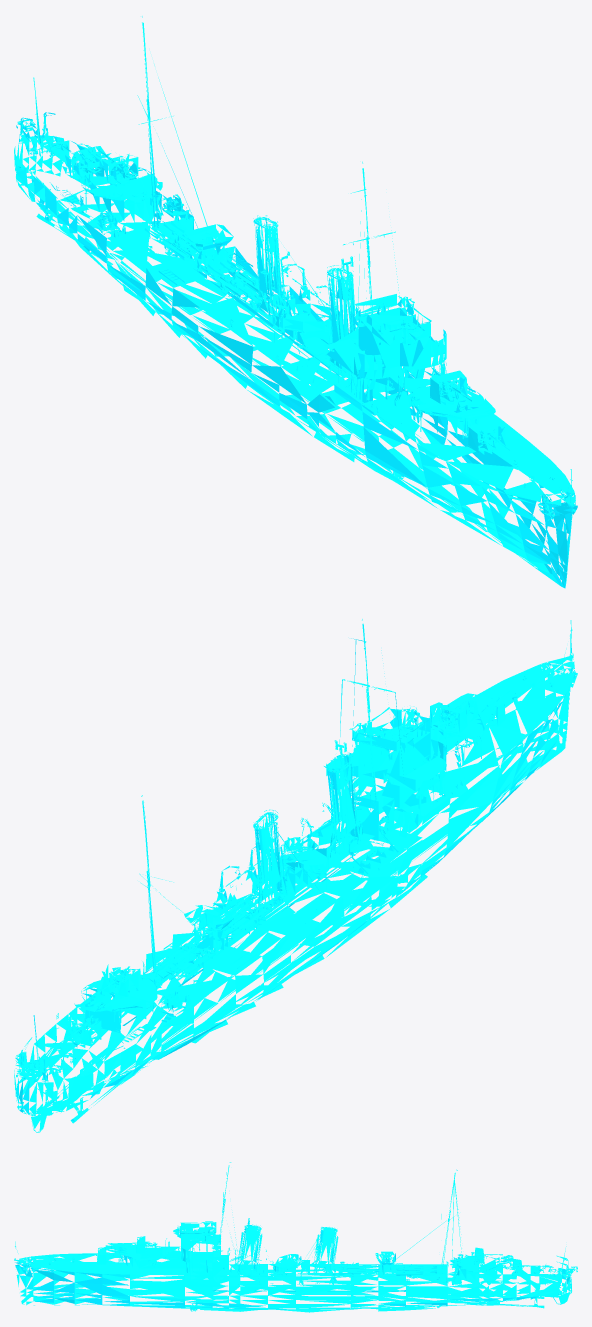
File: PBSD605.glb
3 renders of one model, top to bottom at view 1: azimuth 30°, elevation 25°; view 2: azimuth 150°, elevation 25°; view 3: azimuth 270°, elevation 25°, orthographic. The views are drawn at different scales.
Parts seen in each view (by area): view 1: hull, turret; view 2: hull, turret; view 3: hull, turret.
Boxes of the visible parts, <box> form: hull: <box>14,16,577,588</box>; turret: <box>59,143,510,454</box>; hull: <box>14,619,577,1132</box>; turret: <box>59,690,510,1047</box>; hull: <box>14,1162,577,1312</box>; turret: <box>78,1236,540,1277</box>.
Size of the model in its own units: 0.6705 by 1.94 by 6.63.
